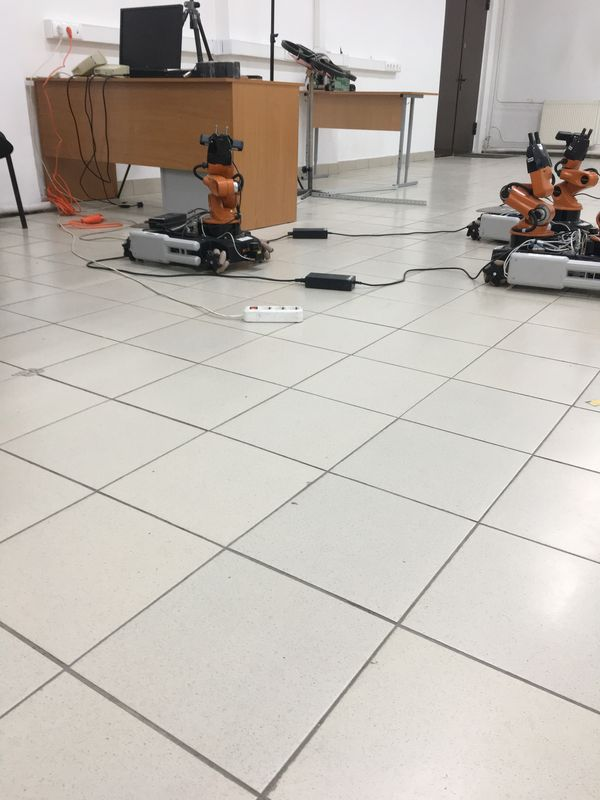socket: (241, 301, 308, 327)
